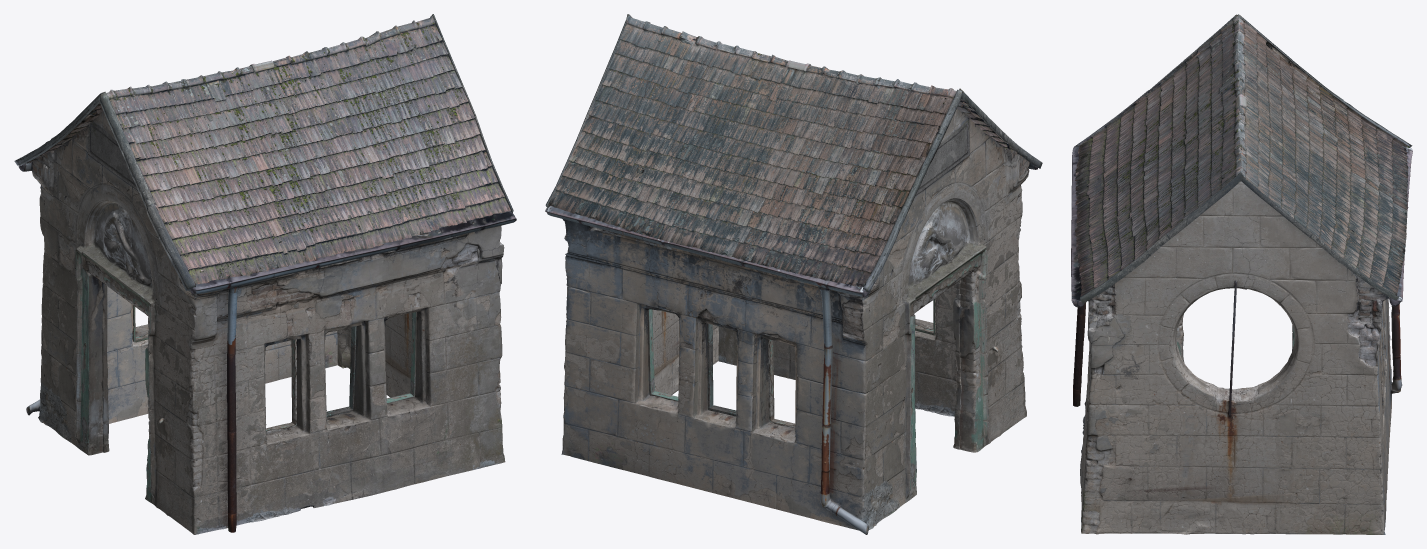
The model's file is sm_Mausoleum_01_02.fbx.
3 renders of one model, left to right at view 1: azimuth 30°, elevation 25°; view 2: azimuth 150°, elevation 25°; view 3: azimuth 270°, elevation 25°, orthographic. The views are drawn at different scales.
Visible parts, largest first — view 1: sm_Mausoleum_01_02_LOD0; view 2: sm_Mausoleum_01_02_LOD0; view 3: sm_Mausoleum_01_02_LOD0.
Part boxes in pixels (box(x1,y1,x2,y2)): sm_Mausoleum_01_02_LOD0: box(14, 14, 516, 534); sm_Mausoleum_01_02_LOD0: box(545, 14, 1042, 534); sm_Mausoleum_01_02_LOD0: box(1071, 14, 1412, 534).
Size of the model in its own units: 448 by 414 by 495.
